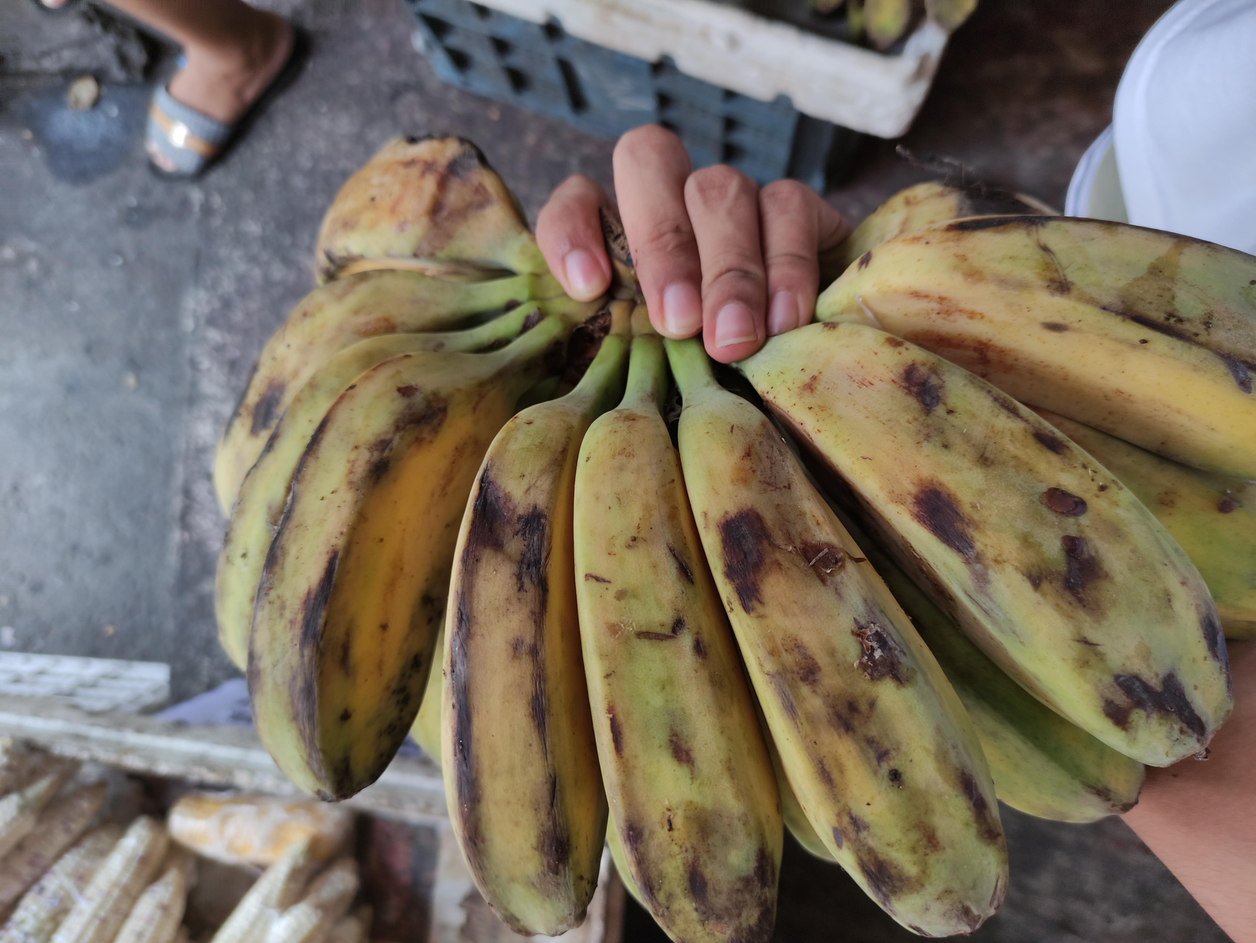underripe: (216, 138, 1256, 940)
